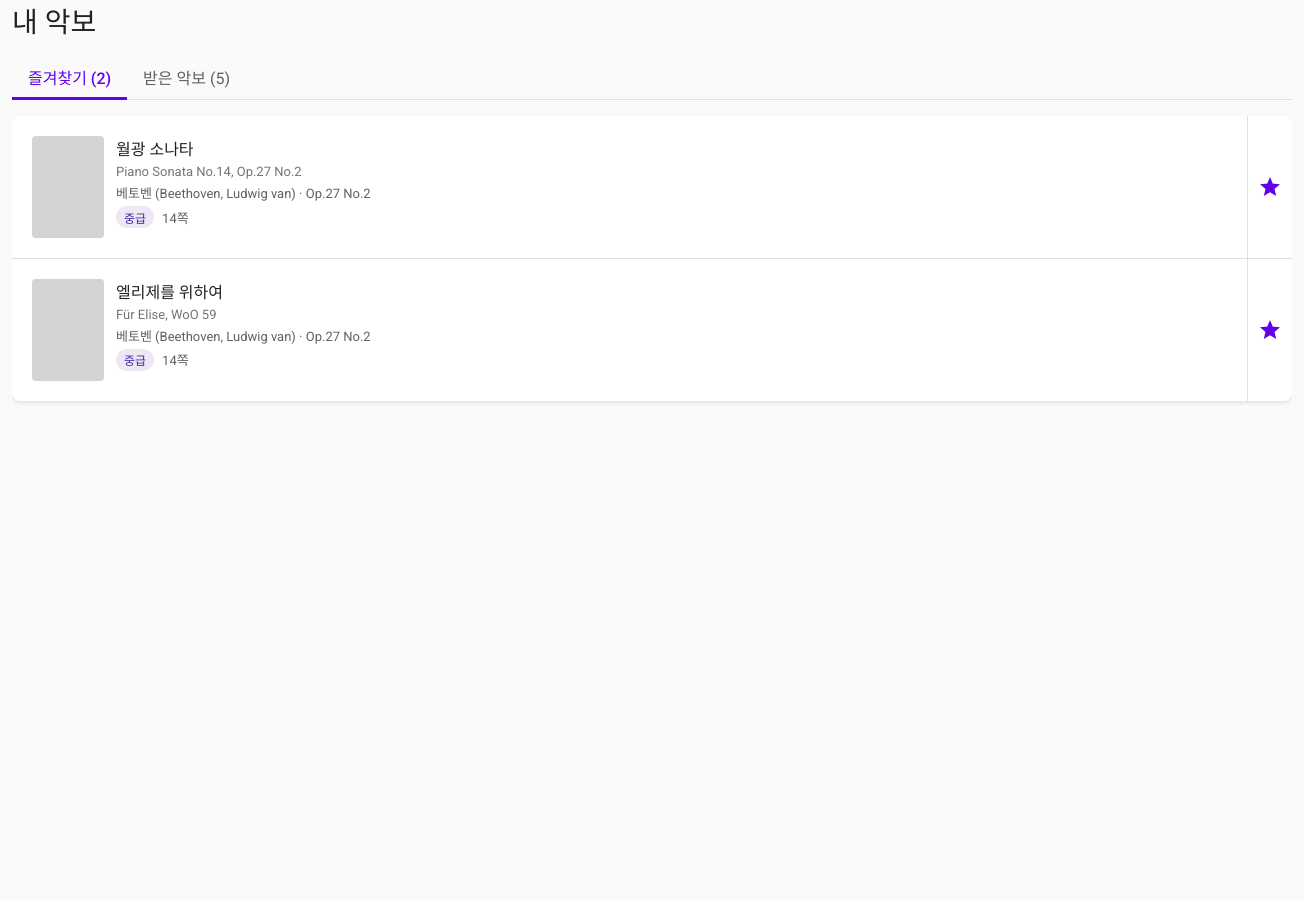
Test: 즐겨찾기 탭 — 목록과 해제 (8-C 3·4) › 해제가 실패하면 항목이 제자리로 돌아오고 실패 토스트가 뜬다 (기획 05 §7)
This screenshot has width=1304, height=900.
Click the button named "즐겨찾기 해제" in the row of "Piano Sonata No.14, Op.27 No.2".
click(1270, 187)  # box [1248, 165, 1292, 209]
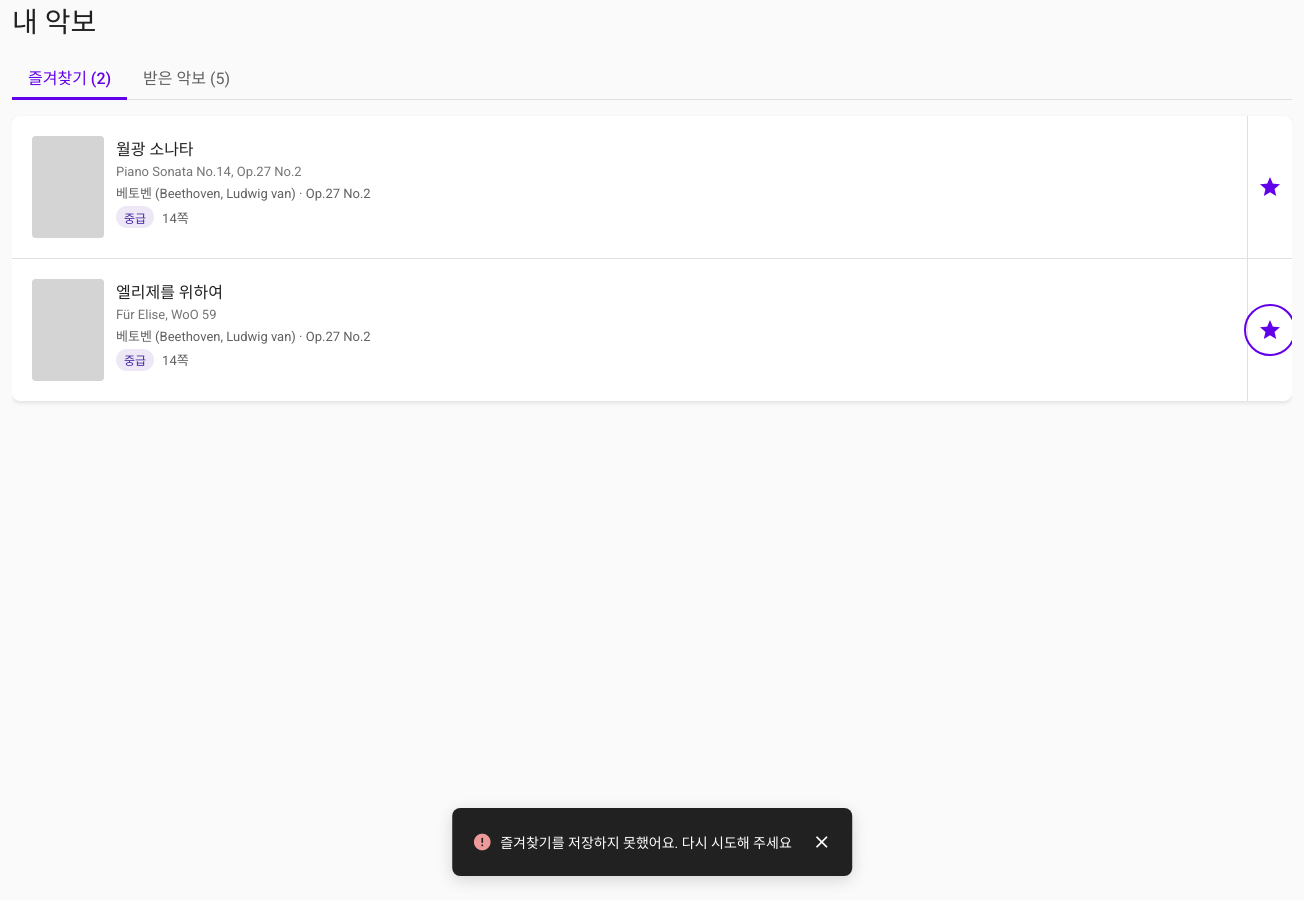
Check: the text "월광 소나타" is shown, box [116, 136, 194, 160]
Check: the text "즐겨찾기를 저장하지 못했어요. 다시 시도해 주세요" is shown, box [500, 832, 792, 852]
